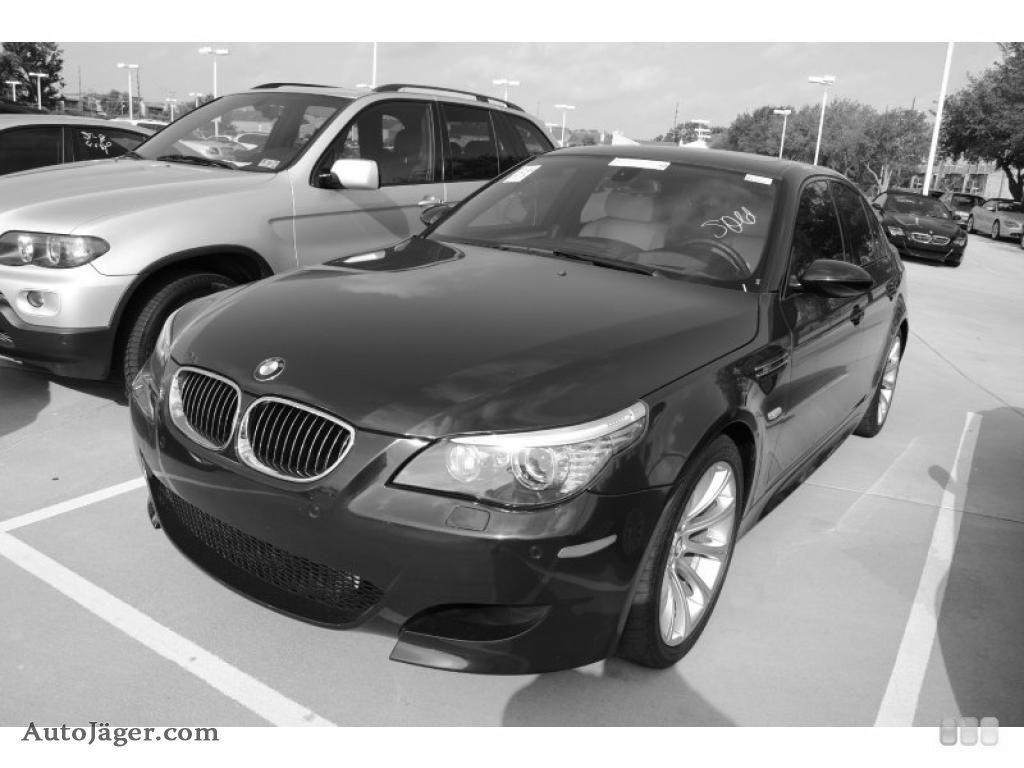car: (128, 151, 913, 679)
